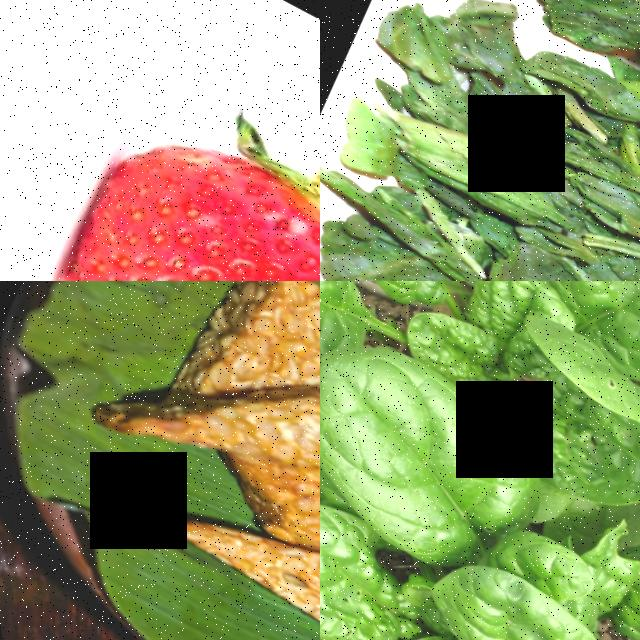spinach: (320, 323, 560, 593), (488, 367, 640, 524), (395, 552, 610, 640), (320, 494, 442, 640), (505, 281, 640, 409), (386, 298, 513, 399), (576, 522, 640, 640), (320, 281, 516, 312)
strawberry: (49, 89, 320, 281)
tempeh: (158, 281, 320, 520), (145, 489, 320, 640)
